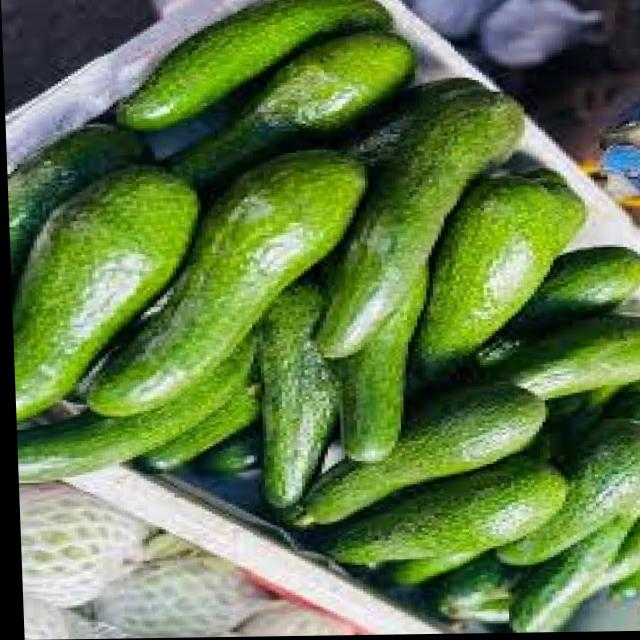Bo: (76, 147, 376, 421), (313, 82, 527, 365), (13, 172, 197, 424), (161, 24, 418, 188), (279, 381, 541, 537), (418, 167, 593, 393), (115, 0, 373, 138), (322, 456, 563, 573), (498, 420, 640, 574), (254, 283, 339, 518)
